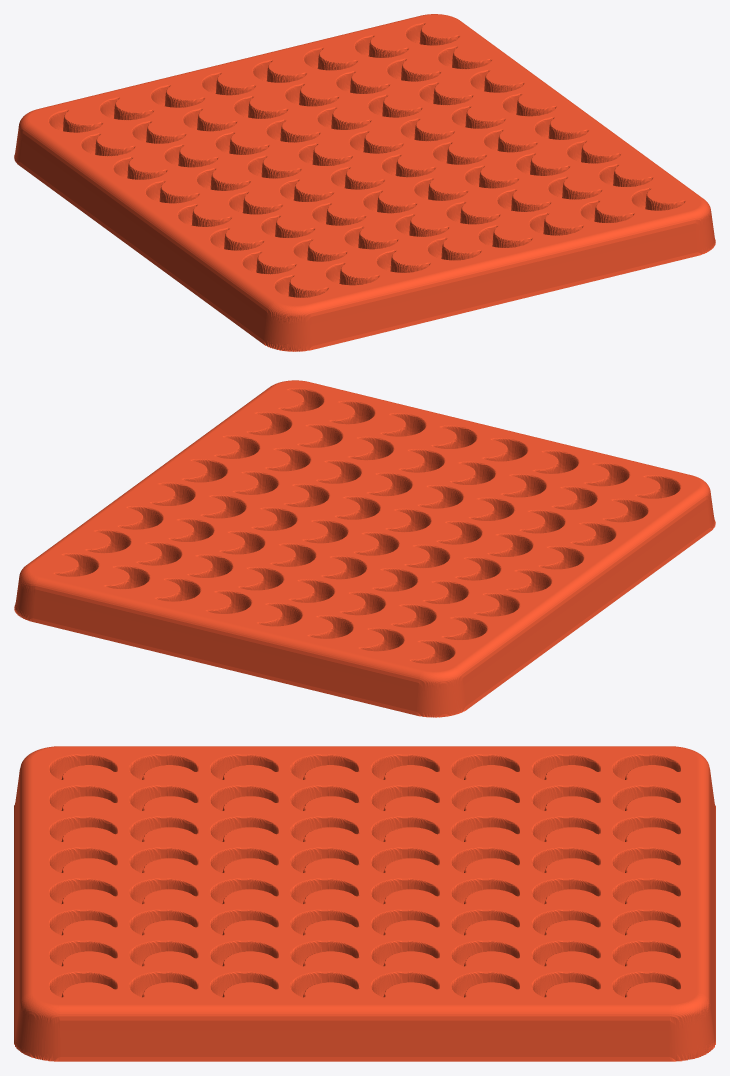
File: mold.glb
3 renders of one model, top to bottom at view 1: azimuth 30°, elevation 25°; view 2: azimuth 150°, elevation 25°; view 3: azimuth 270°, elevation 25°, orthographic. The views are drawn at different scales.
Parts seen in each view (by area): view 1: geometry_0; view 2: geometry_0; view 3: geometry_0.
Boxes of the visible parts, box(x1,y1,x2,y2) form: geometry_0: box(14, 14, 715, 351); geometry_0: box(14, 380, 715, 717); geometry_0: box(14, 746, 715, 1061).
Size of the model in its own units: 0.1247 by 0.0105 by 0.1355.
